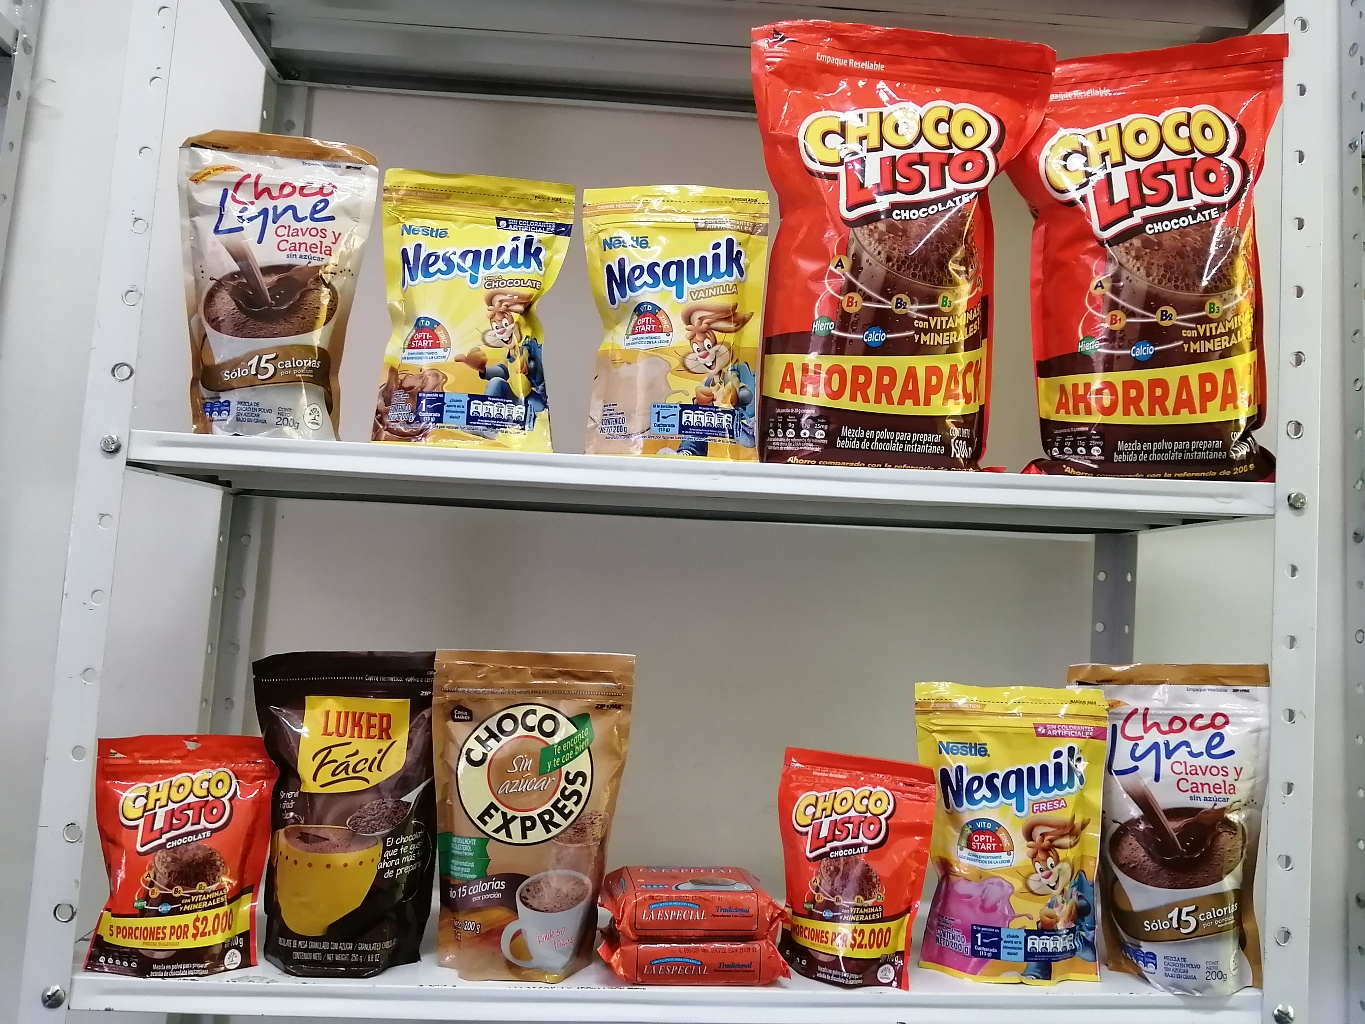COL0170103DYP1,500: (995, 39, 1299, 481)
COL0170303DYP20000: (382, 162, 579, 455)
COL0170305DYP20000: (911, 682, 1114, 982)
COL0170306DYP20000: (583, 183, 769, 461)
